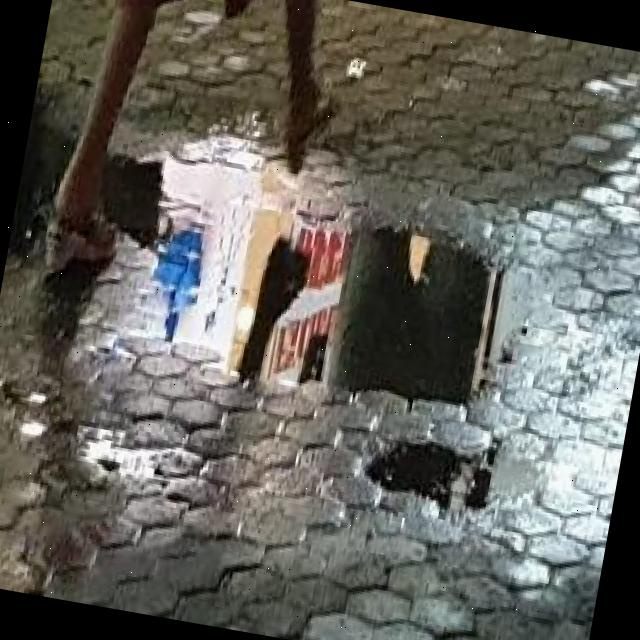waterlogging: (75, 121, 544, 452)
